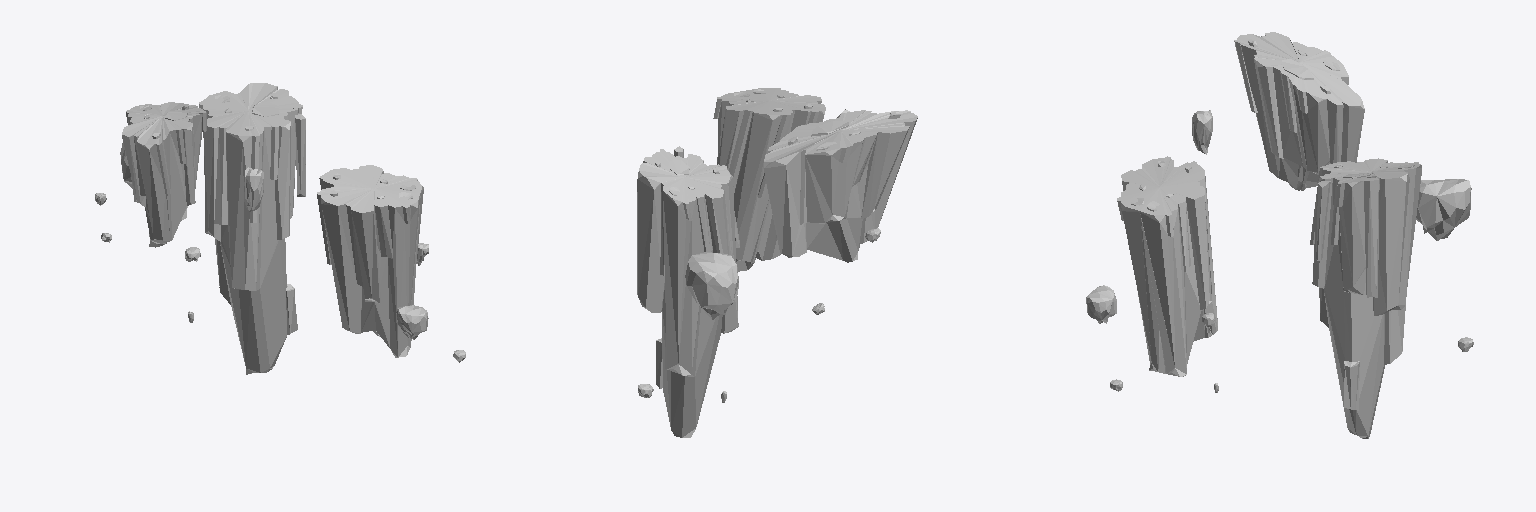
Rendered from FloaterGroup.obj.
3 renders of one model, left to right at view 1: azimuth 30°, elevation 25°; view 2: azimuth 150°, elevation 25°; view 3: azimuth 270°, elevation 25°, orthographic.
Visible parts, largest first — view 1: RockFlyPt2.001_Untitled.002, RockFlyPt2_Untitled.001, RockFlyPt2.002_Untitled.003; view 2: RockFlyPt2.001_Untitled.002, RockFlyPt2.002_Untitled.003, RockFlyPt2_Untitled.001; view 3: RockFlyPt2.001_Untitled.002, RockFlyPt2_Untitled.001, RockFlyPt2.002_Untitled.003.
Boxes of the visible parts, box(x1,y1,x2,y2) form: RockFlyPt2.001_Untitled.002: box(120, 83, 305, 374); RockFlyPt2_Untitled.001: box(317, 165, 465, 362); RockFlyPt2.002_Untitled.003: box(95, 102, 263, 247); RockFlyPt2.001_Untitled.002: box(637, 146, 739, 437); RockFlyPt2.002_Untitled.003: box(764, 109, 917, 314); RockFlyPt2_Untitled.001: box(713, 88, 825, 271); RockFlyPt2.001_Untitled.002: box(1310, 158, 1473, 438); RockFlyPt2_Untitled.001: box(1086, 156, 1218, 392); RockFlyPt2.002_Untitled.003: box(1192, 32, 1364, 190).
Size of the model in its own units: 2.76 by 3.07 by 3.38.